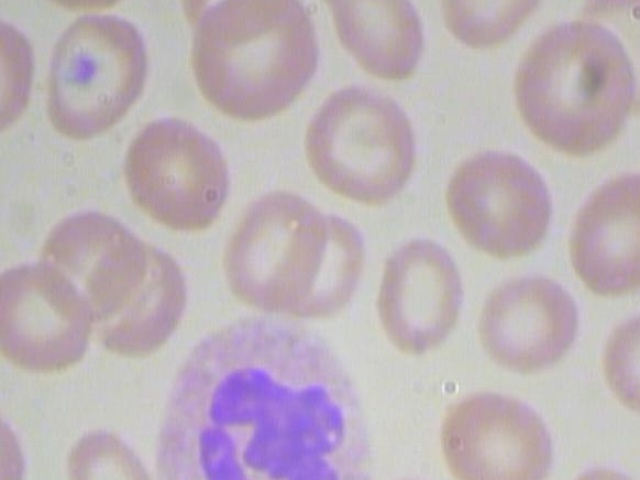RBC: (297, 78, 425, 219), (508, 13, 636, 154), (184, 0, 322, 125), (33, 2, 157, 139), (210, 190, 336, 318), (112, 114, 234, 232), (28, 206, 150, 323), (443, 141, 557, 261), (469, 267, 581, 381), (368, 234, 467, 357), (0, 253, 103, 371), (428, 387, 555, 480), (563, 167, 640, 299), (316, 0, 430, 86), (588, 293, 640, 418), (55, 425, 162, 480), (558, 442, 640, 480), (354, 459, 461, 480)
WBC: (149, 308, 390, 480)
